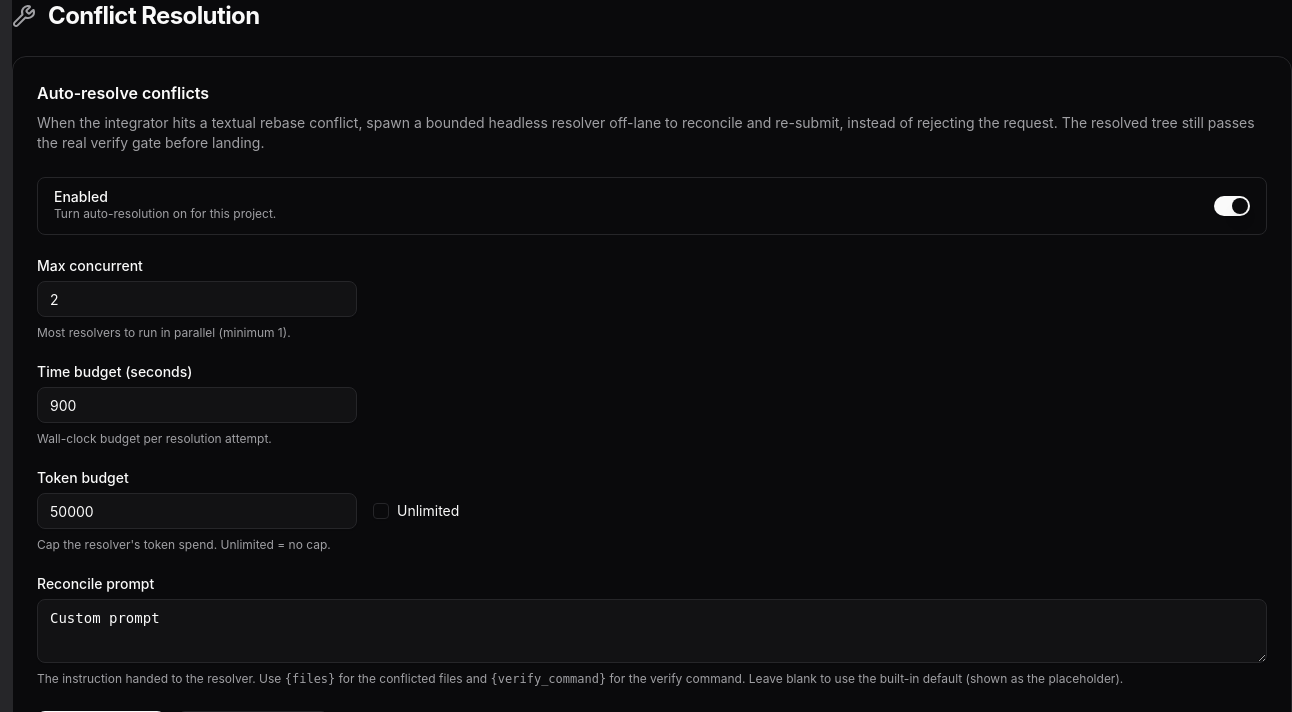
Test case: ConflictResolutionPage — validation › disables Save when time_budget_sec is 0
The width and height of the screenshot is (1292, 712).
Replace the text in the number field labelled "Time budget (seconds)" with "0" at (197, 405), box 37,387 -> 357,423
(page scrolled)
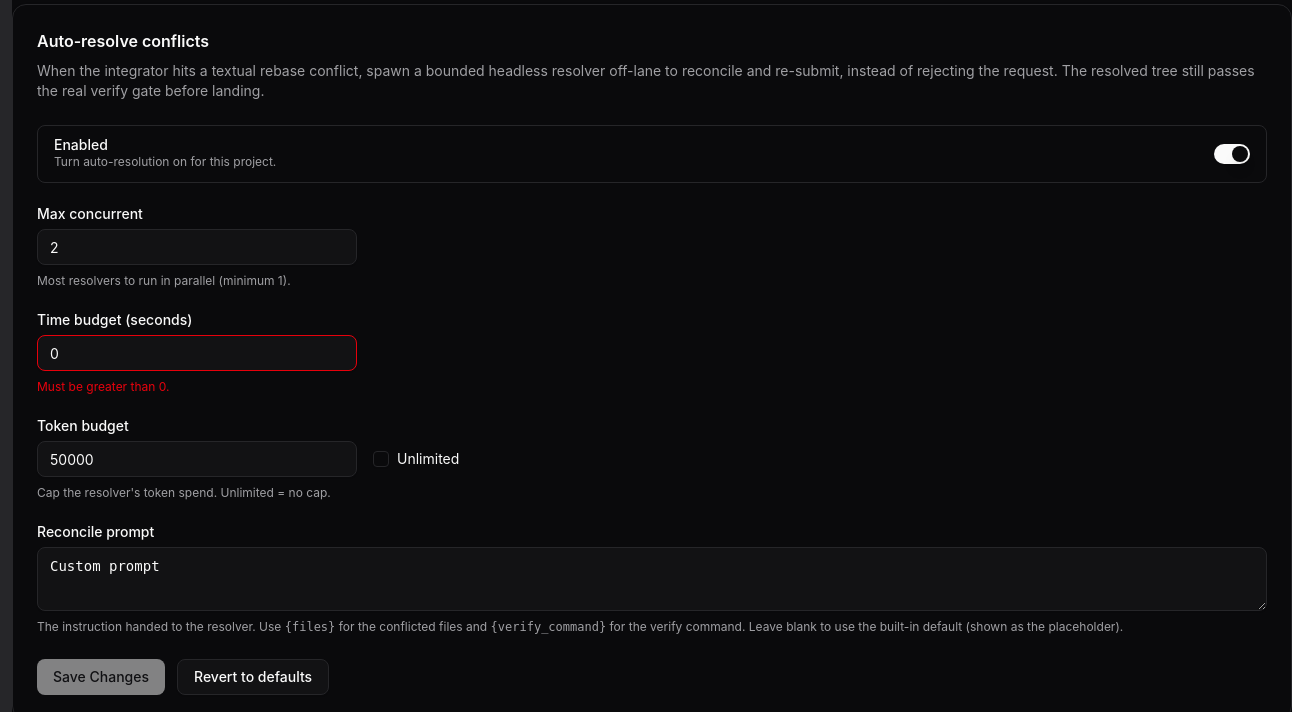
Now the button "Save Changes" is disabled, box 37,659 -> 165,695
